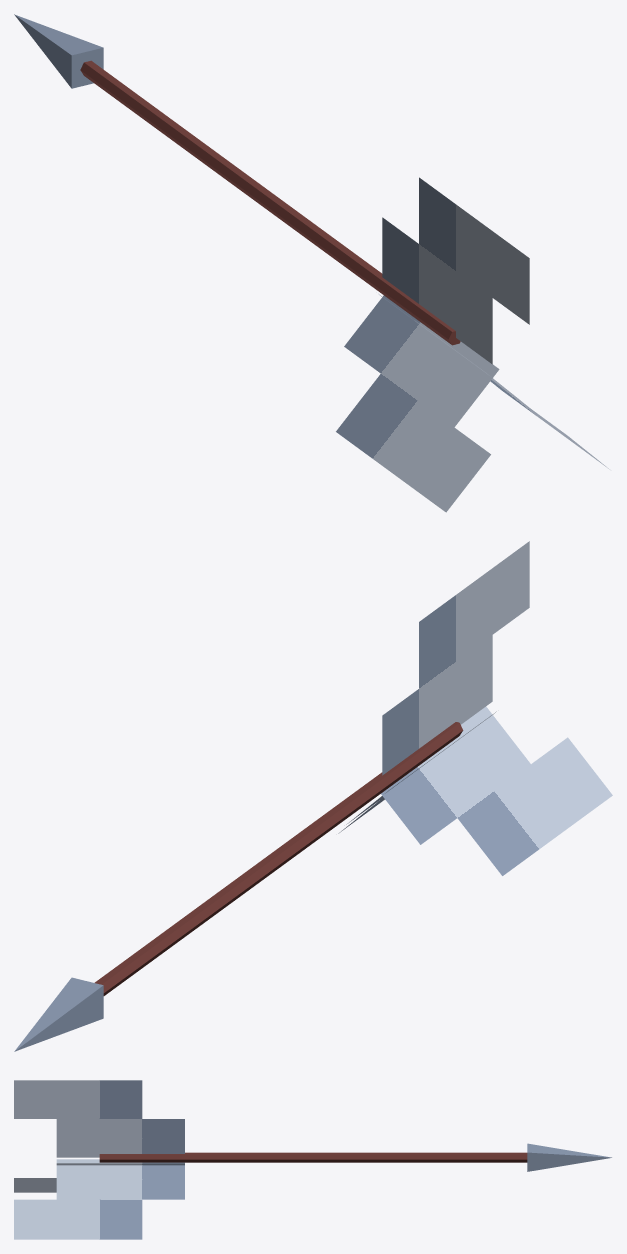
File: Arrow.gltf
The picture shows the model from 3 angles, top to bottom: view 1: azimuth 30°, elevation 25°; view 2: azimuth 150°, elevation 25°; view 3: azimuth 270°, elevation 25°; orthographic projection. The views are drawn at different scales.
Visible parts, largest first — view 1: cylinder; view 2: cylinder; view 3: cylinder.
Boxes of the visible parts, x1,y1,x2,y2 form: cylinder: (14, 14, 609, 512); cylinder: (14, 541, 612, 1051); cylinder: (14, 1080, 611, 1239).
Bounding box in the file's own units: 0.1634 × 0.2192 × 0.875.
Materials: 1 (1 with a texture image).
